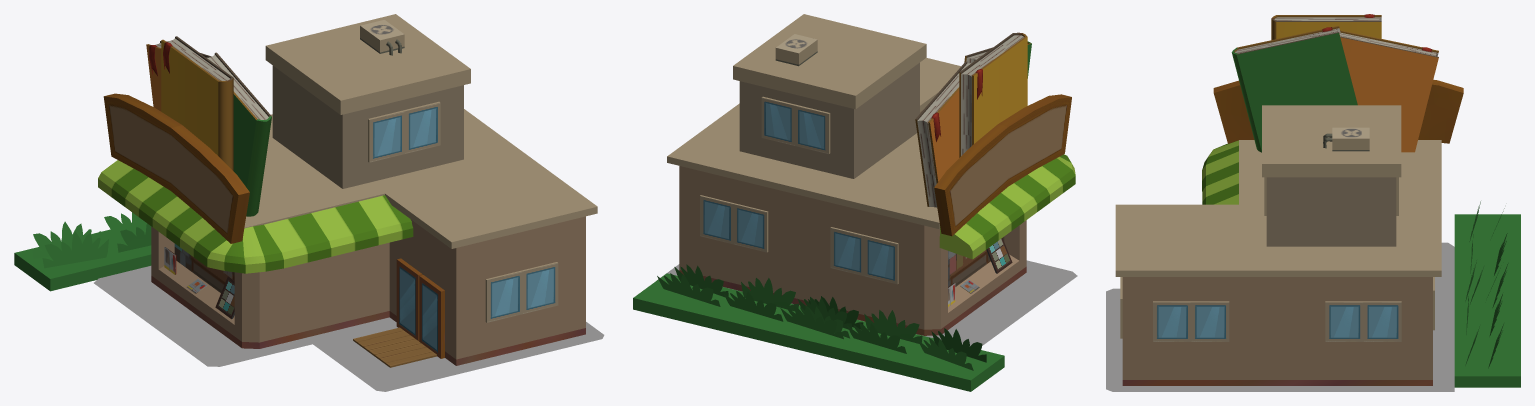
The model's file is tx_shudianmod_01.fbx.
The picture shows the model from 3 angles, left to right: view 1: azimuth 30°, elevation 25°; view 2: azimuth 150°, elevation 25°; view 3: azimuth 270°, elevation 25°; orthographic projection. The views are drawn at different scales.
Parts seen in each view (by area): view 1: tx_shudianmod_01; view 2: tx_shudianmod_01; view 3: tx_shudianmod_01.
Boxes of the visible parts, x1=… form: tx_shudianmod_01: x1=14, y1=14, x2=604, y2=391; tx_shudianmod_01: x1=633, y1=14, x2=1077, y2=391; tx_shudianmod_01: x1=1106, y1=14, x2=1520, y2=391.
Bounding box in the file's own units: 236 × 161 × 247.
